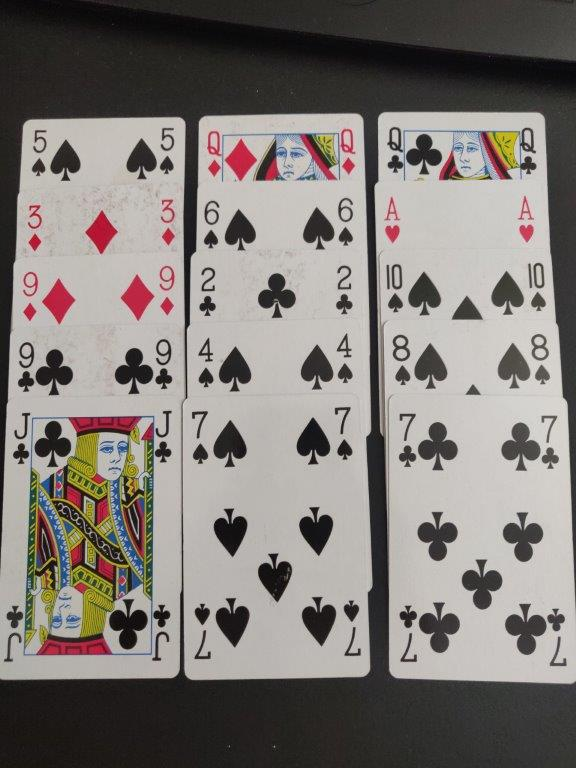10S: (522, 253, 551, 316), (379, 258, 409, 317)
2C: (195, 263, 221, 318), (331, 262, 356, 318)
3D: (20, 202, 48, 256), (156, 195, 181, 249)
4S: (331, 330, 359, 387), (194, 333, 219, 391)
5S: (25, 124, 52, 180), (156, 122, 178, 176)
6S: (335, 191, 361, 250), (200, 196, 222, 253)
7C: (394, 407, 421, 475), (536, 410, 564, 473)
7S: (330, 403, 359, 466), (186, 406, 213, 472)
8S: (526, 329, 556, 392), (387, 330, 415, 391)
9C: (150, 334, 176, 395), (14, 337, 38, 397)
9D: (154, 261, 178, 322), (18, 267, 43, 323)
AH: (381, 191, 407, 248), (514, 191, 539, 245)
JC: (149, 407, 179, 468), (10, 407, 34, 470)
QC: (517, 123, 541, 179), (384, 122, 407, 176)
QD: (337, 122, 361, 178), (203, 127, 227, 180)
